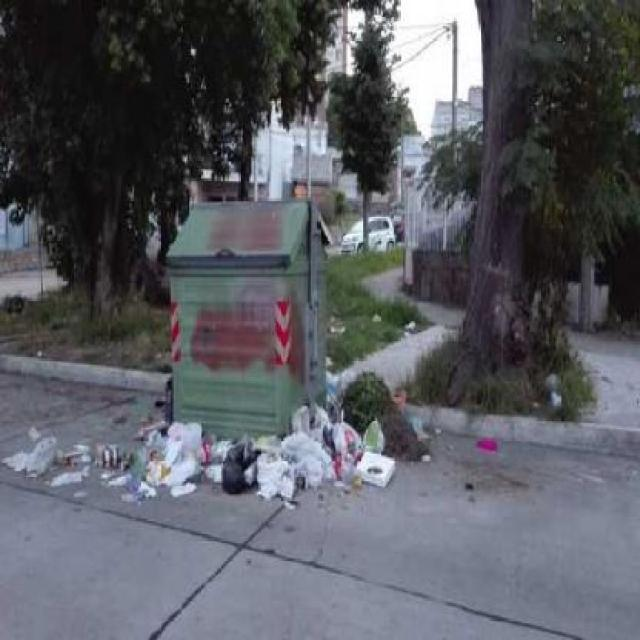garbage: (8, 414, 442, 537), (336, 357, 432, 484), (141, 363, 176, 472), (354, 297, 426, 344), (22, 326, 72, 382), (323, 282, 340, 411), (542, 369, 575, 434)
